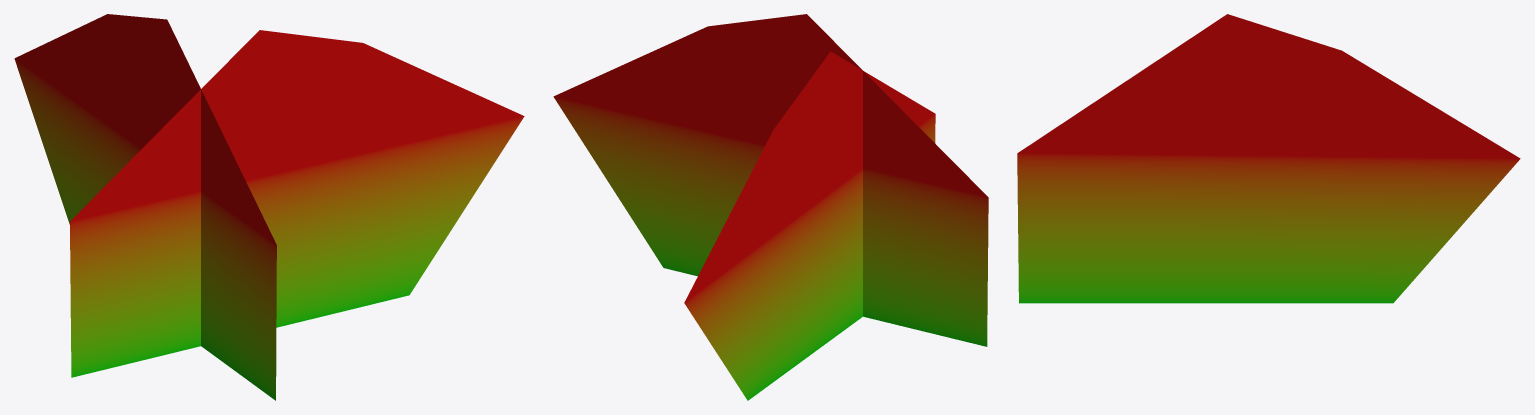
The model's file is Dead Shrubs_LOD4_Var7_vdknafgha.fbx.
3 renders of one model, left to right at view 1: azimuth 30°, elevation 25°; view 2: azimuth 150°, elevation 25°; view 3: azimuth 270°, elevation 25°, orthographic. The views are drawn at different scales.
Visible parts, largest first — view 1: _xkcm_Var7_LOD4; view 2: _xkcm_Var7_LOD4; view 3: _xkcm_Var7_LOD4.
Part boxes in pixels (x1,y1,x2,y2): _xkcm_Var7_LOD4: [14, 14, 524, 400]; _xkcm_Var7_LOD4: [553, 14, 988, 400]; _xkcm_Var7_LOD4: [1017, 14, 1520, 303].
Size of the model in its own units: 89.3 by 56.65 by 89.3.
